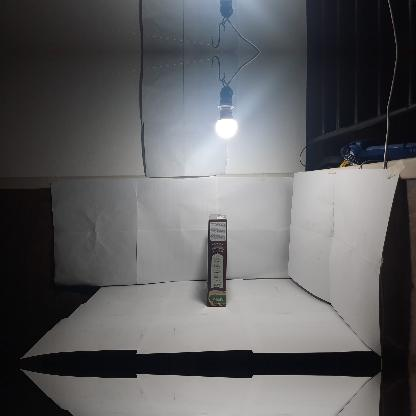Koko-Krunch: (207, 214, 227, 306)
